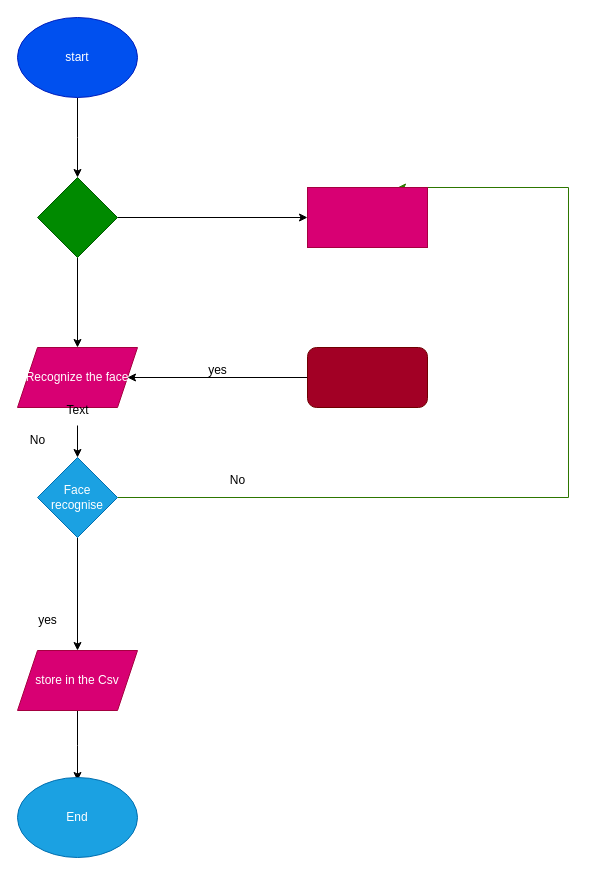
The diagram is 594 pixels wide and 875 high, and some of its shapes have lost their labels. The shapes that lost their labels are listed below. From the top down, each one's box as (x1, y1, x2, y2) in pixels, then its label:
(36, 176, 118, 258): New user
(306, 186, 428, 248): Give your photograph
(306, 346, 428, 408): Store the face
